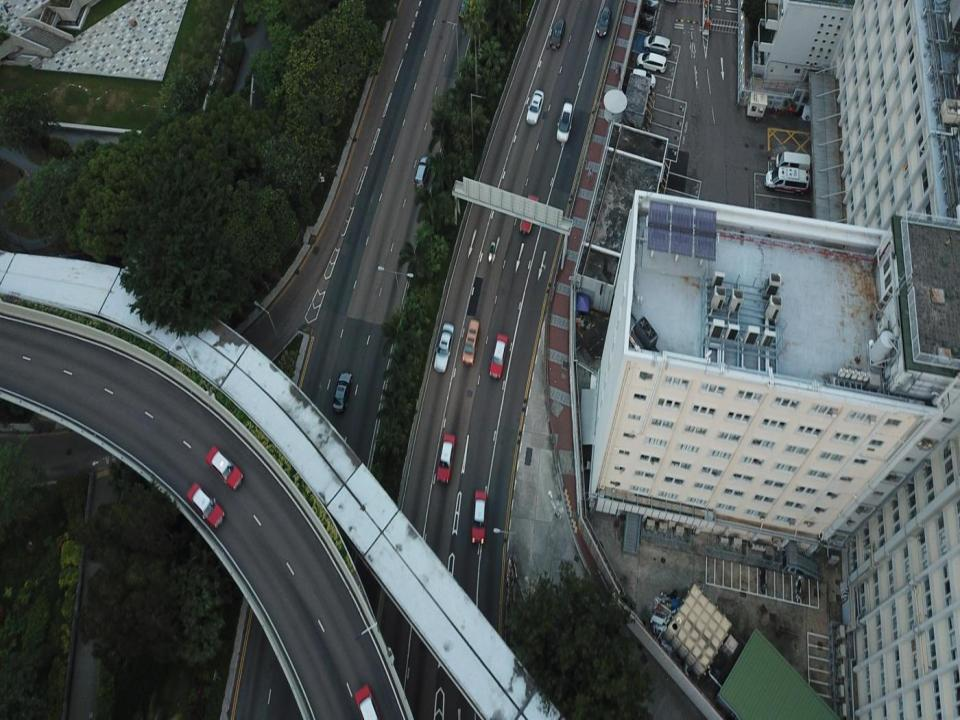car: (185, 481, 225, 532), (206, 446, 245, 490), (432, 320, 453, 374), (434, 433, 455, 486), (353, 684, 379, 719), (555, 100, 574, 146), (332, 373, 354, 412), (490, 334, 508, 381), (472, 487, 485, 546), (520, 194, 538, 236), (413, 156, 432, 190), (527, 90, 543, 127), (597, 5, 612, 40), (550, 18, 564, 52), (459, 0, 473, 27)
van: (764, 165, 810, 191), (462, 318, 480, 366), (635, 50, 668, 73), (642, 34, 674, 57), (775, 151, 811, 171)
